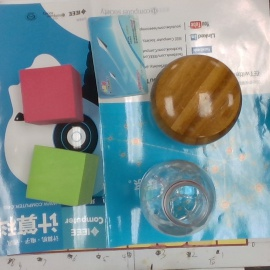bottle: (139, 161, 216, 234)
card: (87, 15, 148, 98)
chess: (151, 55, 242, 147)
